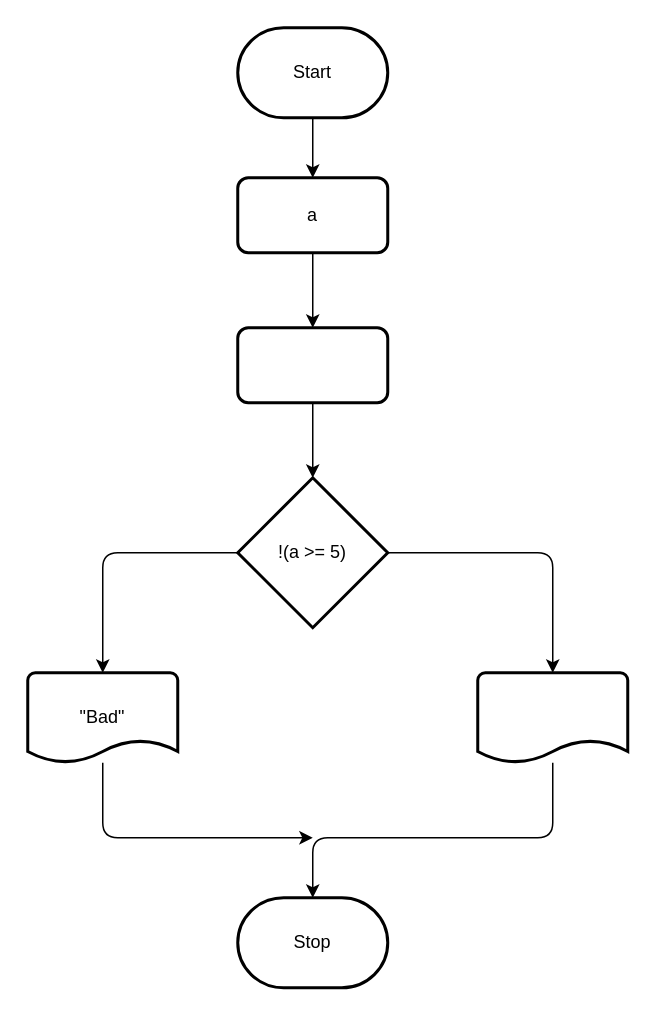
Some shapes in this 654 by 1014 pixel diagram are drawn without their labels. The centre of each missing label's shape, as x and y in pixels:
"Good": pixel 552 717
a = 10: pixel 312 365
